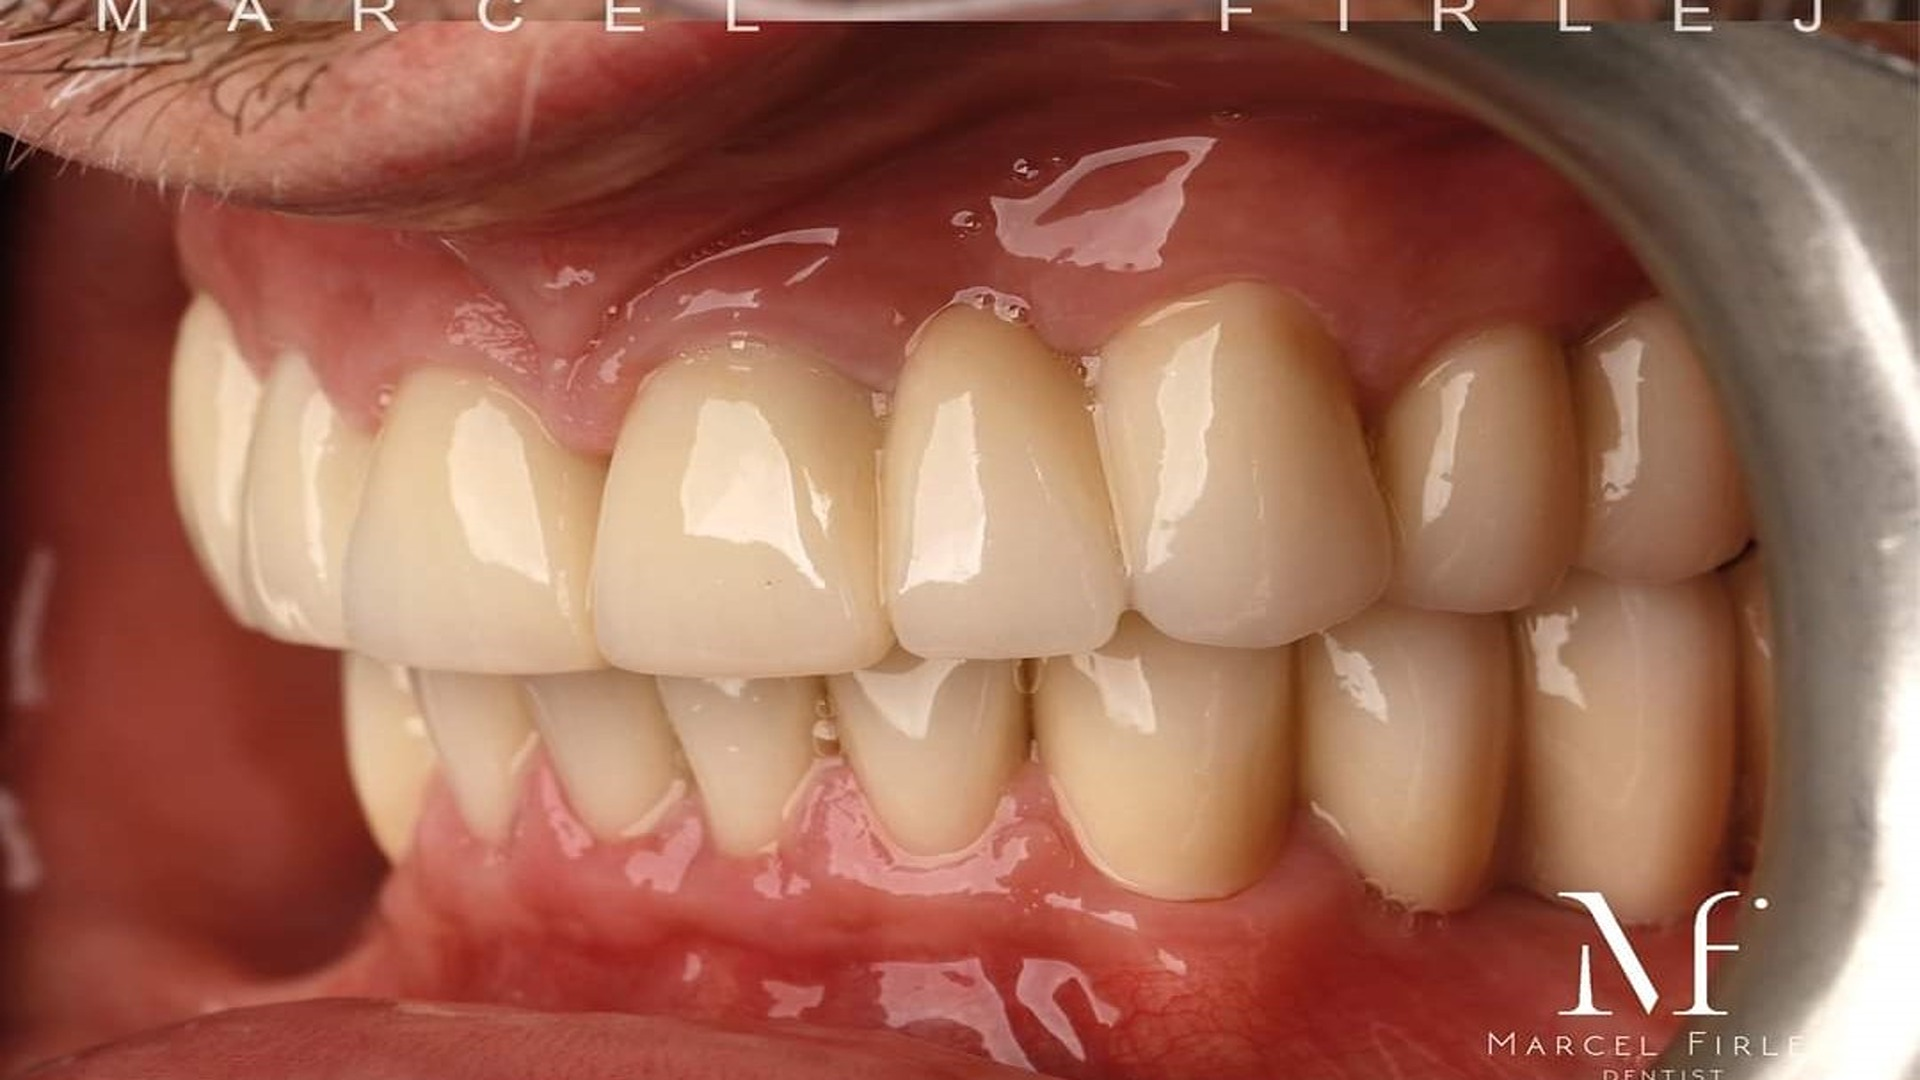tooth: (1091, 281, 1393, 647), (589, 338, 894, 680), (878, 287, 1129, 661), (342, 367, 608, 676), (1031, 611, 1299, 902), (1300, 603, 1516, 914), (1379, 322, 1581, 613), (1569, 298, 1754, 585), (827, 645, 1033, 856), (241, 349, 373, 647), (514, 669, 694, 841), (167, 291, 260, 626), (655, 676, 825, 857), (407, 669, 534, 843), (342, 651, 436, 865)
